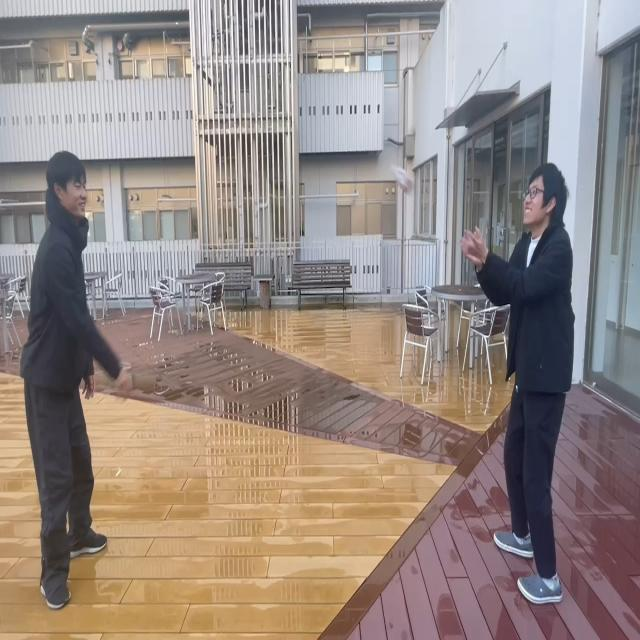bottle: (391, 165, 417, 196)
